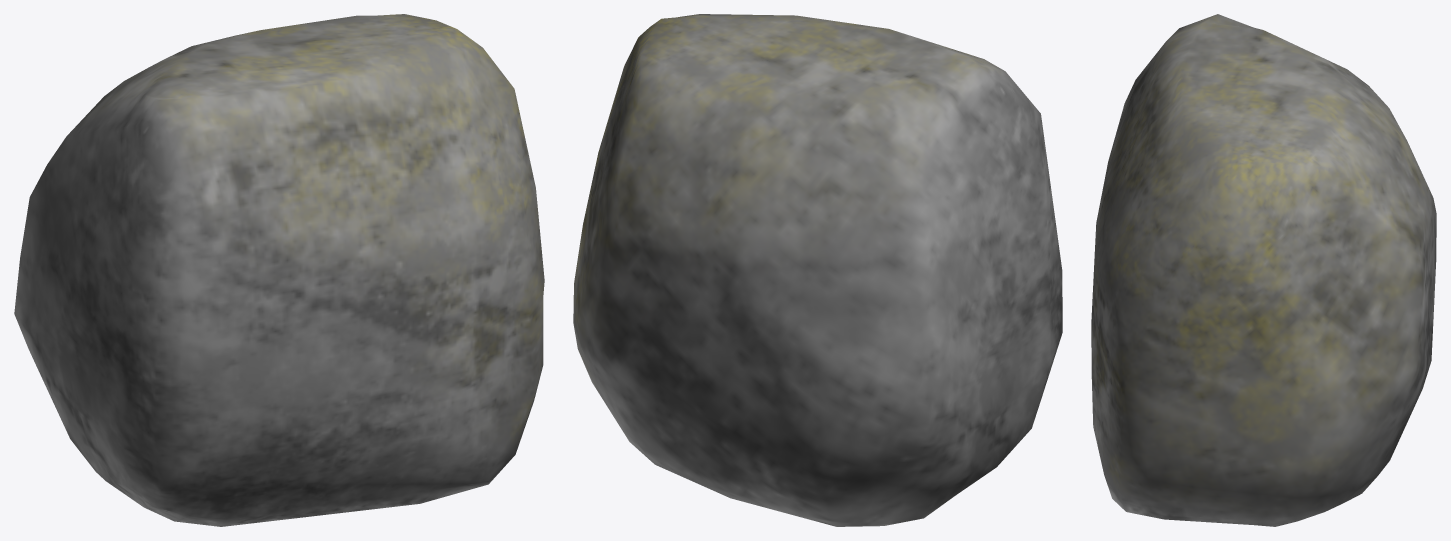
The model's file is rock3.fbx.
The picture shows the model from 3 angles, left to right: view 1: azimuth 30°, elevation 25°; view 2: azimuth 150°, elevation 25°; view 3: azimuth 270°, elevation 25°; orthographic projection. The views are drawn at different scales.
Parts seen in each view (by area): view 1: kamenstredny1_lp.001; view 2: kamenstredny1_lp.001; view 3: kamenstredny1_lp.001.
Boxes of the visible parts, box(x1,y1,x2,y2) form: kamenstredny1_lp.001: box(14, 14, 544, 526); kamenstredny1_lp.001: box(573, 14, 1062, 526); kamenstredny1_lp.001: box(1091, 14, 1436, 526).
Size of the model in its own units: 46.14 by 46.53 by 36.67.
